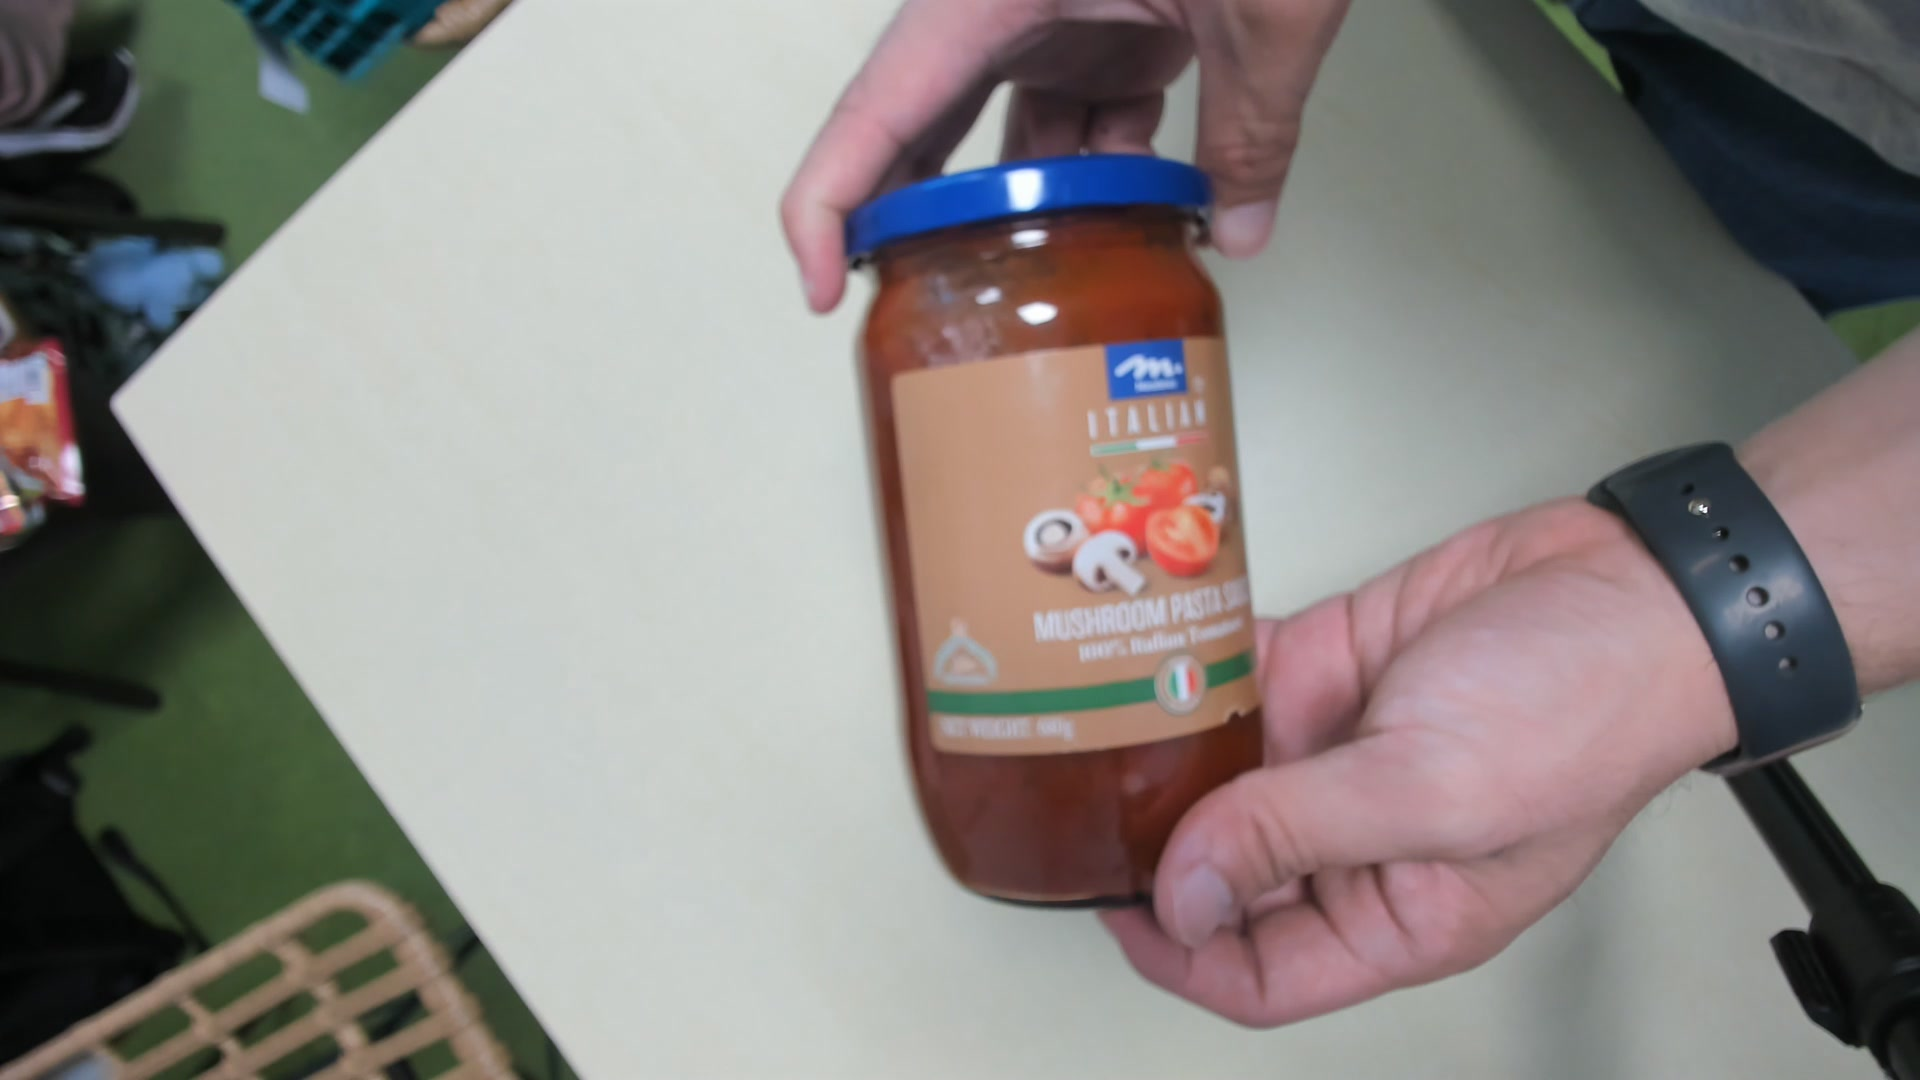PastaSauce_600-699g_Halal_NonHealthy: (851, 158, 1261, 915)
